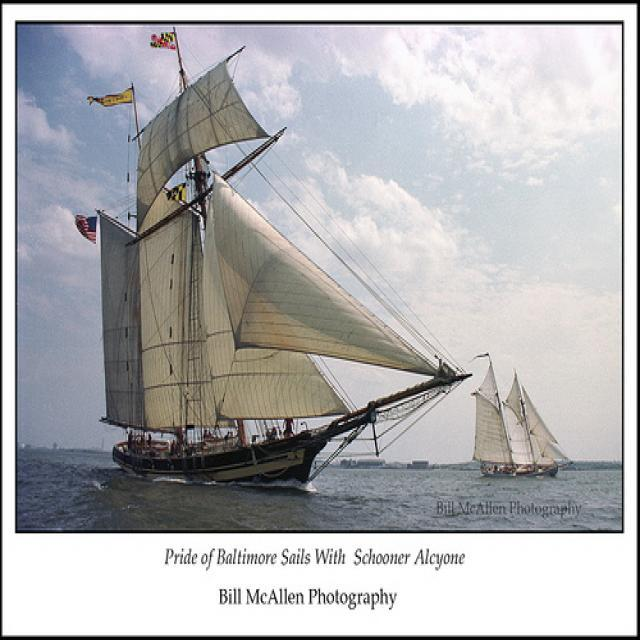Ship: (75, 51, 441, 492), (478, 350, 567, 475)
